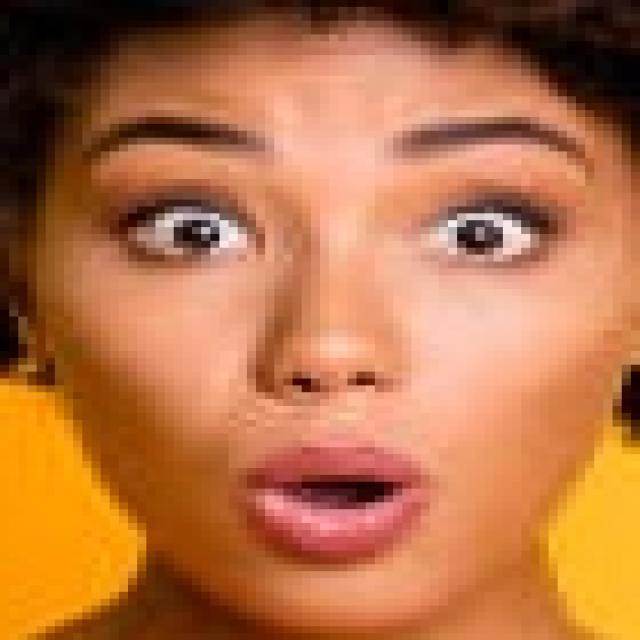Anxiety: (26, 26, 631, 629)
